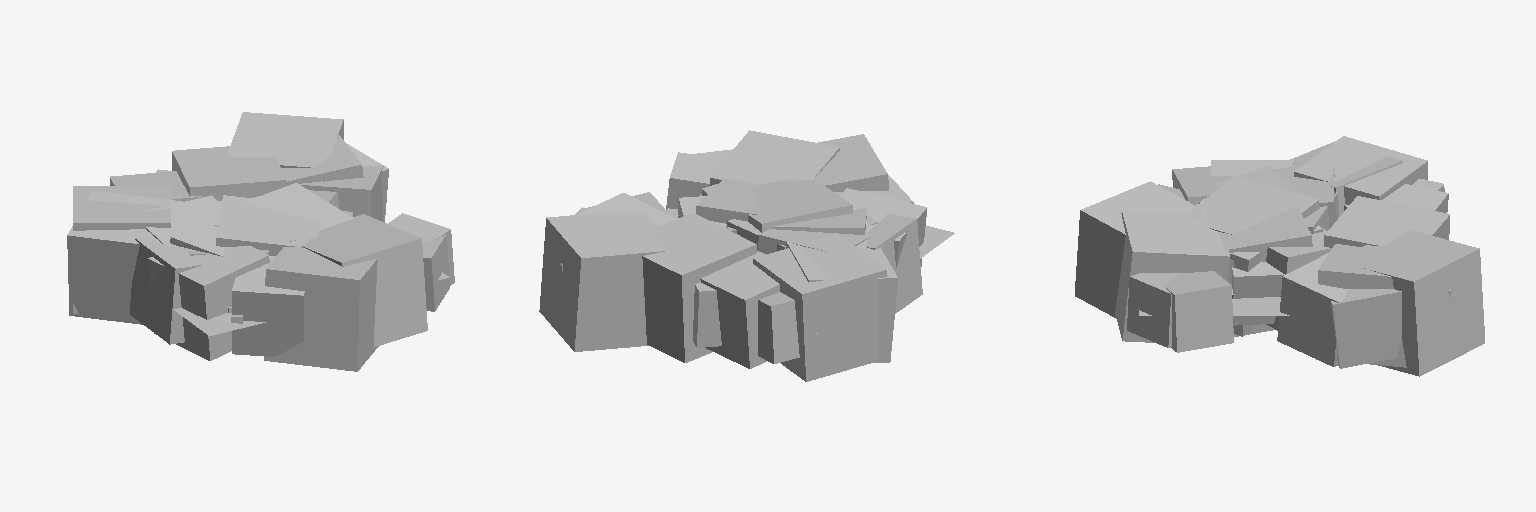
The model's file is campfire.obj.
3 views of the same model, side by side, from view 1: azimuth 30°, elevation 25°; view 2: azimuth 150°, elevation 25°; view 3: azimuth 270°, elevation 25° (orthographic).
Visible parts, largest first — view 1: Cube, Plane; view 2: Cube, Plane; view 3: Cube, Plane.
Part boxes in pixels (left/top/right/bottom): Cube: left=67, top=112, right=454, bottom=371; Plane: left=174, top=272, right=449, bottom=335; Cube: left=539, top=130, right=926, bottom=381; Plane: left=666, top=208, right=954, bottom=333; Cube: left=1075, top=136, right=1484, bottom=376; Plane: left=1139, top=297, right=1289, bottom=315.
Size of the model in its own units: 1.34 by 0.4008 by 1.5.